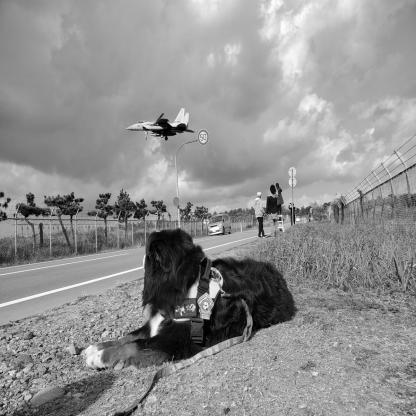F15: (127, 109, 196, 142)
